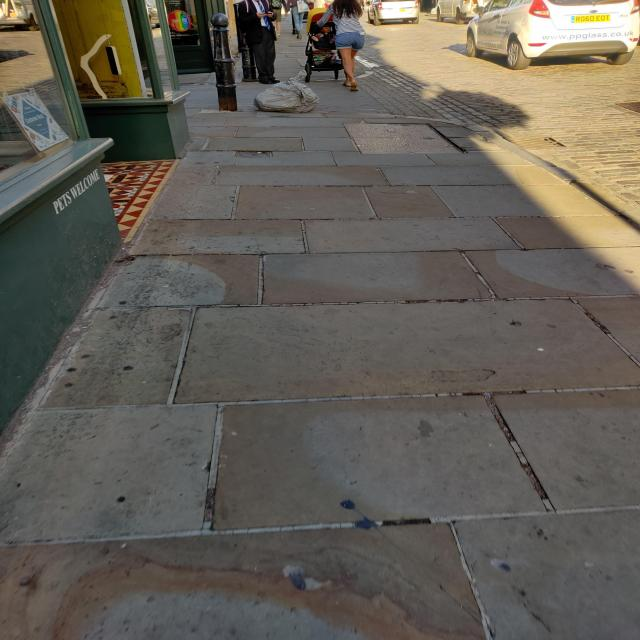litter: (251, 69, 321, 115)
